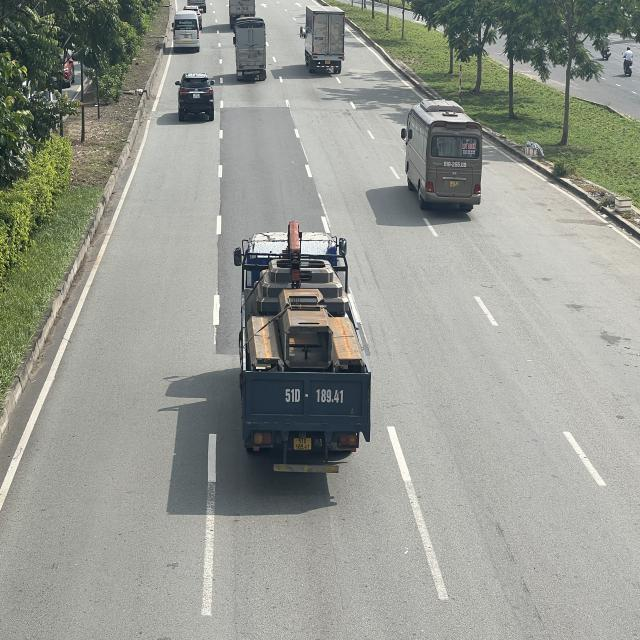car: (174, 73, 215, 119)
coach: (401, 101, 482, 213)
truck: (230, 230, 368, 476), (303, 5, 348, 72), (234, 17, 268, 80)
van: (172, 13, 200, 55)
